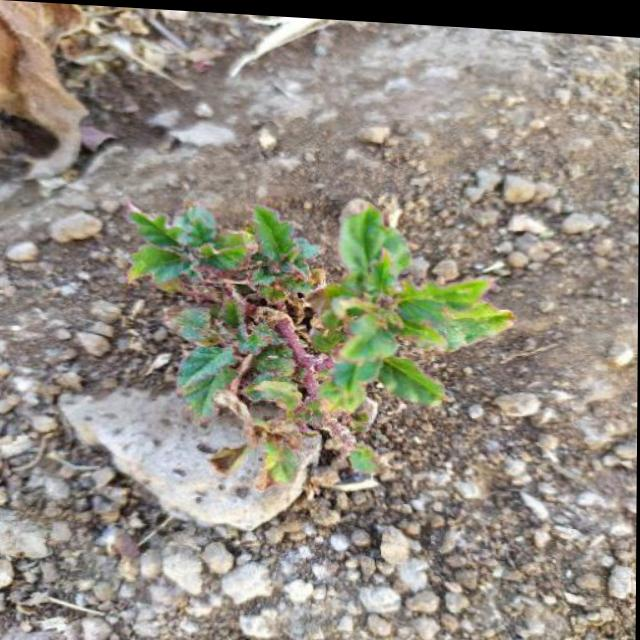weed: (124, 194, 528, 497)
